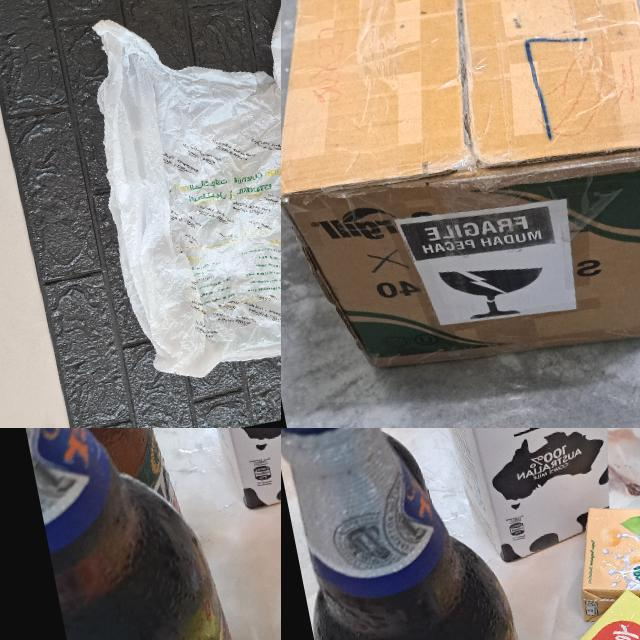caixinha: (444, 428, 632, 570), (565, 475, 640, 640)
garrafa de vidro: (281, 428, 549, 640), (14, 428, 262, 640), (14, 428, 182, 559)
papelão: (281, 0, 640, 405)
sacola plástica: (71, 0, 281, 389)
